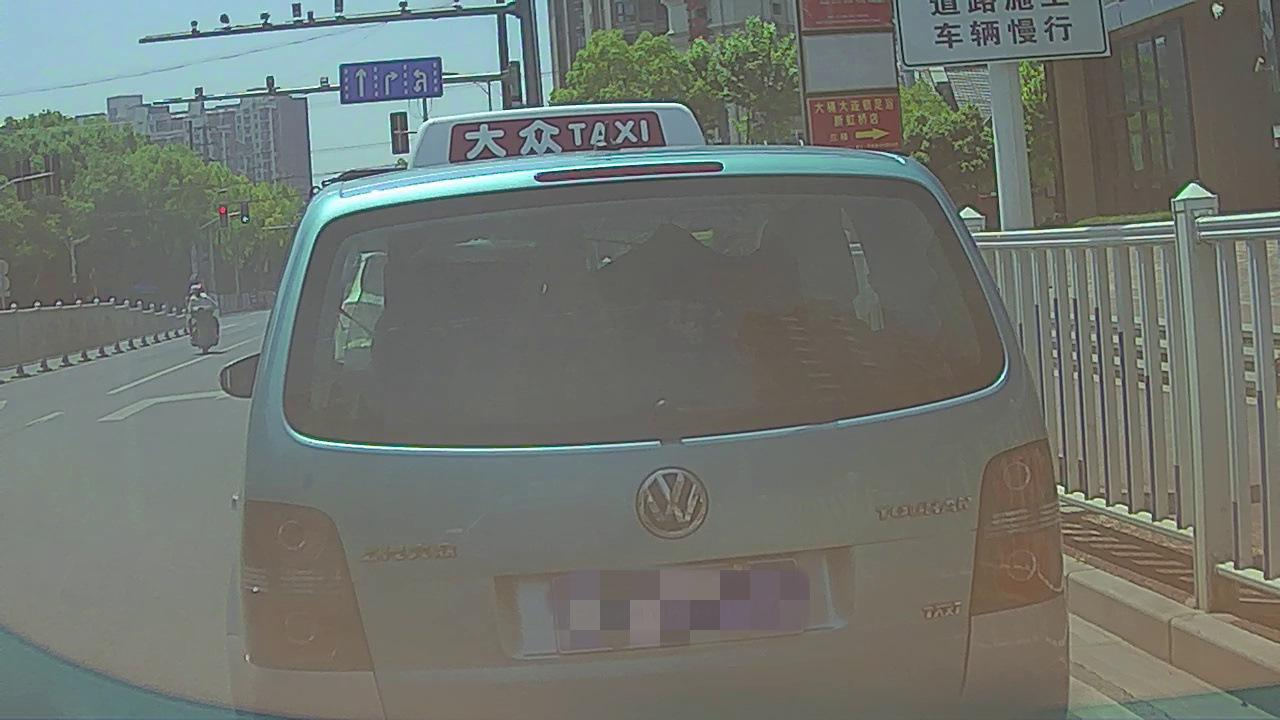traffic_light: (218, 205, 228, 229), (240, 200, 249, 226)
